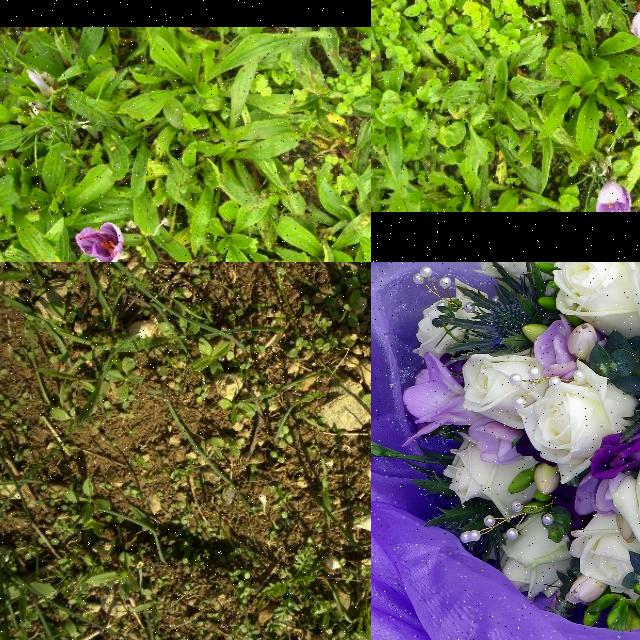flower: (76, 222, 124, 262), (595, 180, 631, 212), (631, 5, 640, 40)
